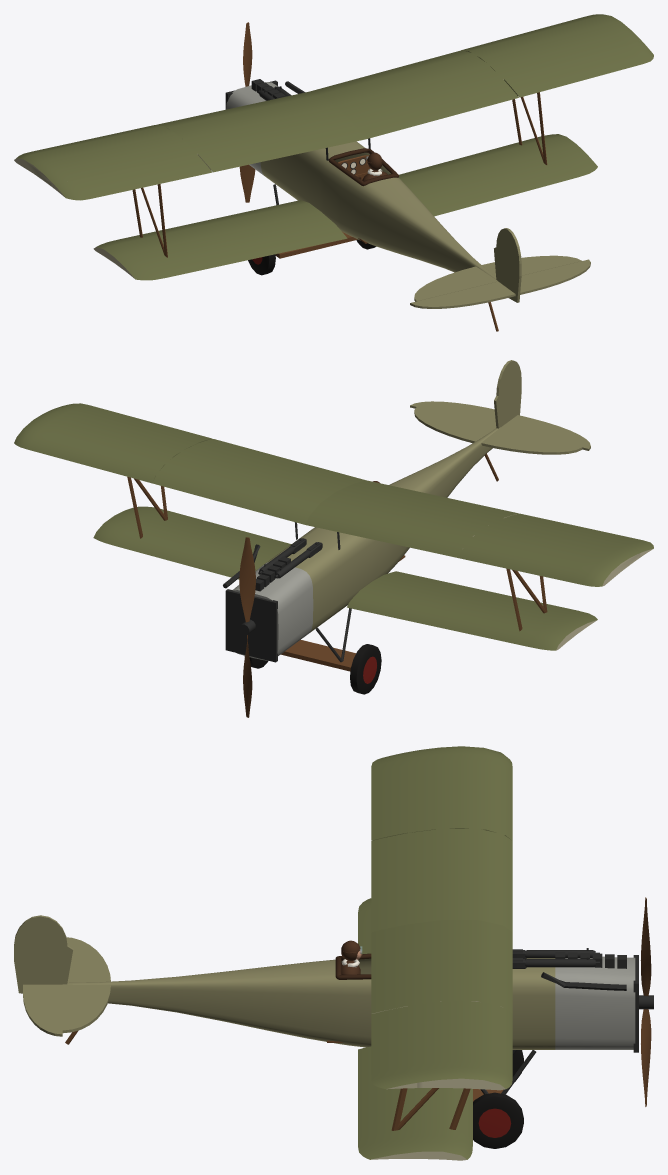
Rendered from fokker_dvii.glb.
The picture shows the model from 3 angles, top to bottom: view 1: azimuth 30°, elevation 25°; view 2: azimuth 150°, elevation 25°; view 3: azimuth 270°, elevation 25°; orthographic projection. The views are drawn at different scales.
Parts seen in each view (by area): view 1: Wing_Upper_R, Wing_Upper_L, Fuselage, Wing_Lower_L, Wing_Lower_R, Aileron_R, Aileron_L, Elevator, Rudder, Stabilizer_L, Struts, PropBlades (+5 smaller); view 2: Wing_Upper_R, Wing_Upper_L, Fuselage, Wing_Lower_L, Wing_Lower_R, Engine, Elevator, PropBlades, Undercarriage, Stabilizer_L, Stabilizer_R, Rudder (+5 smaller); view 3: Fuselage, Wing_Upper_L, Wing_Upper_R, Wing_Lower_R, Rudder, Aileron_L, Aileron_R, Wheels, Stabilizer_R, Elevator, PropBlades, Engine (+5 smaller).
Boxes of the visible parts, x1=… form: Wing_Upper_R: x1=310, y1=14, x2=640, y2=138; Wing_Upper_L: x1=14, y1=91, x2=365, y2=186; Fuselage: x1=226, y1=82, x2=496, y2=279; Wing_Lower_L: x1=93, y1=200, x2=347, y2=280; Wing_Lower_R: x1=399, y1=134, x2=597, y2=216; Aileron_R: x1=504, y1=39, x2=653, y2=97; Aileron_L: x1=52, y1=154, x2=212, y2=200; Elevator: x1=410, y1=259, x2=590, y2=308; Rudder: x1=494, y1=228, x2=521, y2=302; Stabilizer_L: x1=414, y1=266, x2=497, y2=301; Struts: x1=132, y1=92, x2=547, y2=257; PropBlades: x1=239, y1=22, x2=255, y2=202; Wing_Upper_R: x1=14, y1=408, x2=365, y2=524; Wing_Upper_L: x1=305, y1=480, x2=640, y2=586; Fuselage: x1=232, y1=427, x2=500, y2=660; Wing_Lower_L: x1=347, y1=571, x2=597, y2=650; Wing_Lower_R: x1=93, y1=506, x2=291, y2=579; Engine: x1=223, y1=544, x2=290, y2=662; Elevator: x1=410, y1=401, x2=590, y2=450; PropBlades: x1=239, y1=537, x2=255, y2=717; Undercarriage: x1=281, y1=453, x2=498, y2=671; Stabilizer_L: x1=481, y1=427, x2=582, y2=454; Stabilizer_R: x1=414, y1=407, x2=496, y2=443; Rudder: x1=494, y1=360, x2=521, y2=428; Fuselage: x1=67, y1=956, x2=635, y2=1049; Wing_Upper_L: x1=371, y1=746, x2=512, y2=932; Wing_Upper_R: x1=371, y1=920, x2=512, y2=1090; Wing_Lower_R: x1=358, y1=1046, x2=472, y2=1160; Rudder: x1=14, y1=915, x2=73, y2=993; Aileron_L: x1=371, y1=750, x2=415, y2=840; Aileron_R: x1=371, y1=1006, x2=417, y2=1089; Wheels: x1=473, y1=1050, x2=523, y2=1148; Stabilizer_R: x1=62, y1=984, x2=110, y2=1033; Elevator: x1=23, y1=984, x2=62, y2=1036; PropBlades: x1=639, y1=897, x2=653, y2=1106; Engine: x1=541, y1=952, x2=638, y2=1052.
Size of the model in its own units: 8.9 by 2.74 by 7.24.
